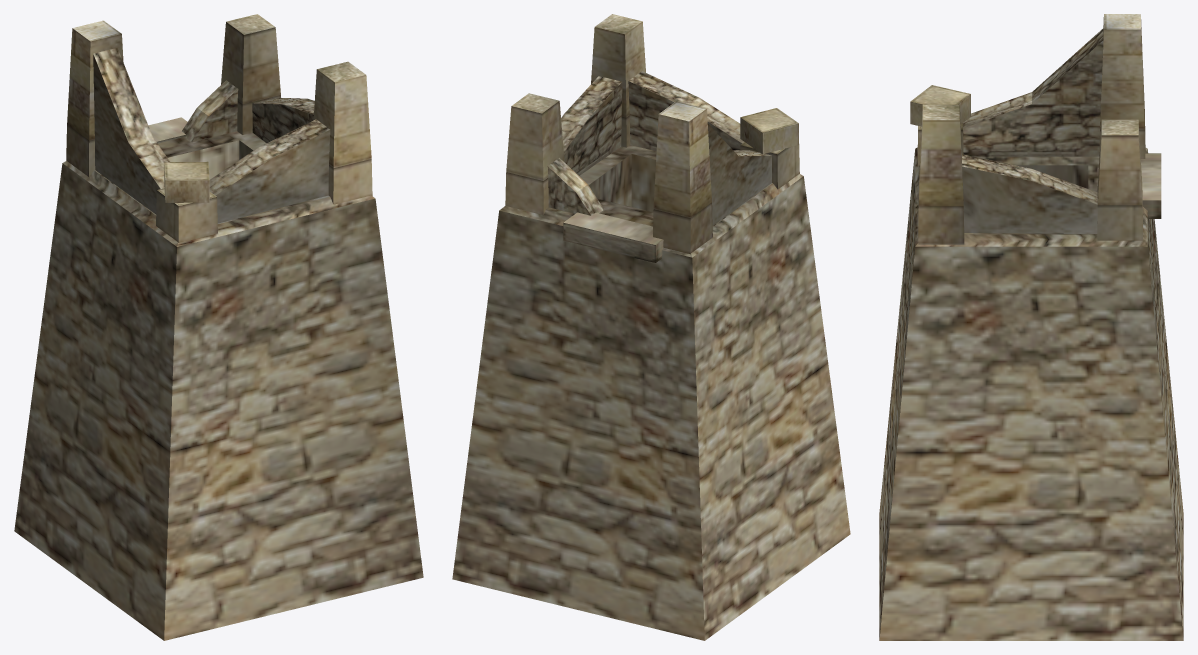
File: fndn_carthaginians_wooden_tower.glb
3 views of the same model, side by side, from view 1: azimuth 30°, elevation 25°; view 2: azimuth 150°, elevation 25°; view 3: azimuth 270°, elevation 25° (orthographic). The views are drawn at different scales.
Parts seen in each view (by area): view 1: fndn_carthaginians_wooden_tower_part0; view 2: fndn_carthaginians_wooden_tower_part0; view 3: fndn_carthaginians_wooden_tower_part0.
Boxes of the visible parts, left/top/right/bottom form: fndn_carthaginians_wooden_tower_part0: left=14, top=14, right=423, bottom=640; fndn_carthaginians_wooden_tower_part0: left=452, top=14, right=850, bottom=640; fndn_carthaginians_wooden_tower_part0: left=879, top=14, right=1183, bottom=640.
Bounding box in the file's own units: 1.72 × 3.48 × 1.72.
1 material, 1 textured.
